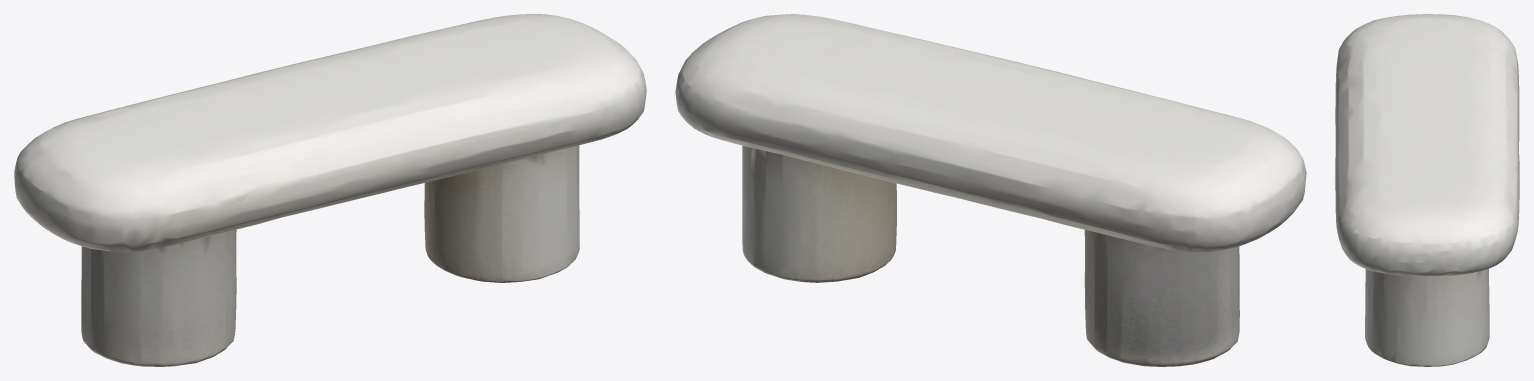
The picture shows the model from 3 angles, left to right: view 1: azimuth 30°, elevation 25°; view 2: azimuth 150°, elevation 25°; view 3: azimuth 270°, elevation 25°; orthographic projection. The views are drawn at different scales.
Parts seen in each view (by area): view 1: geometry_0; view 2: geometry_0; view 3: geometry_0.
Part boxes in pixels (box(x1,y1,x2,y2)): geometry_0: box(14, 14, 646, 366); geometry_0: box(675, 14, 1306, 366); geometry_0: box(1335, 14, 1519, 366).
Bounding box in the file's own units: 1 × 0.3313 × 0.3391.
1 material, 1 textured.
